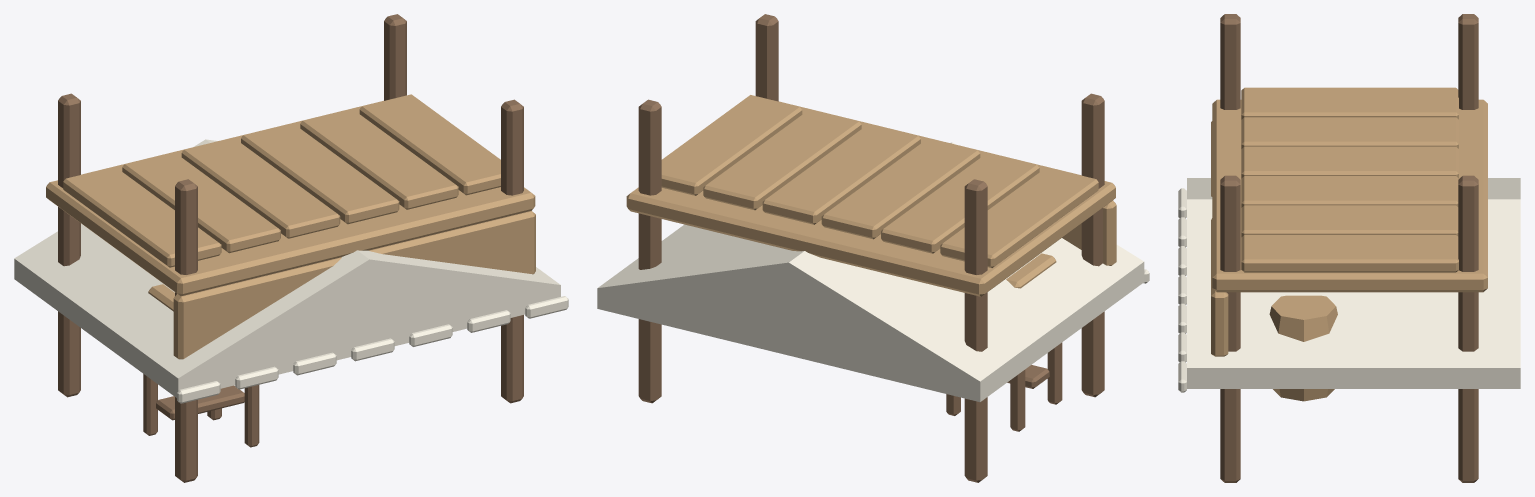
File: town_market_stall_cream.glb
3 views of the same model, side by side, from view 1: azimuth 30°, elevation 25°; view 2: azimuth 150°, elevation 25°; view 3: azimuth 270°, elevation 25° (orthographic).
Visible parts, largest first — view 1: world; view 2: world; view 3: world.
Boxes of the visible parts, x1,y1,x2,y2 form: world: (14, 14, 568, 482); world: (597, 14, 1149, 482); world: (1178, 14, 1520, 482).
Bounding box in the file's own units: 2 × 1.46 × 1.49.
